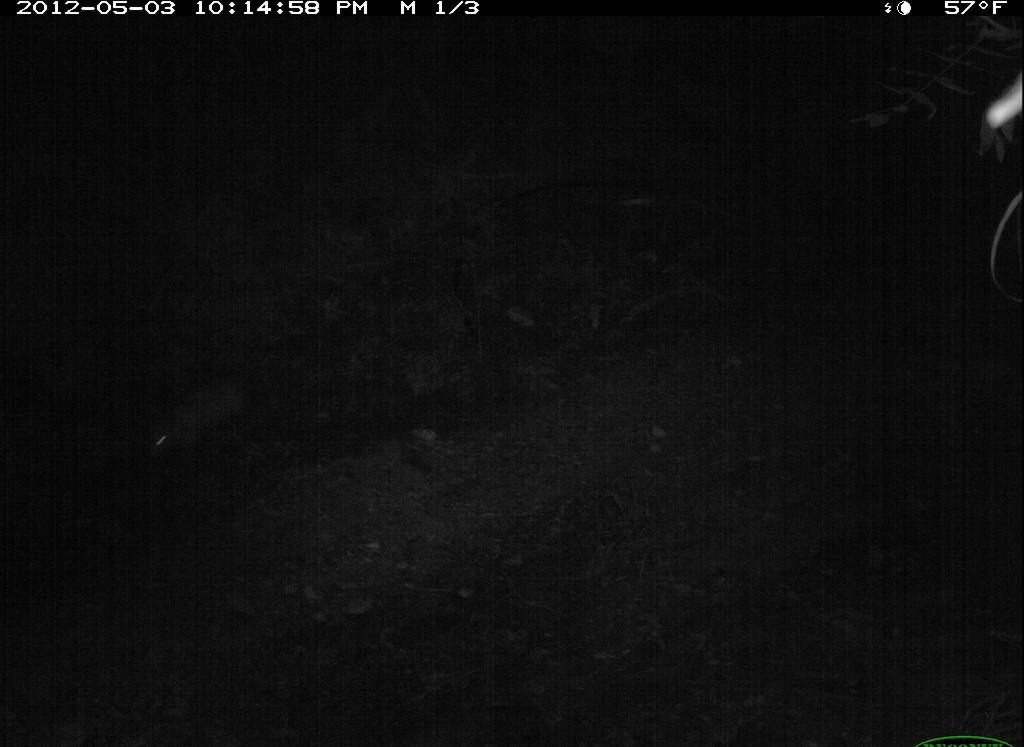opossum: (141, 361, 260, 470)
